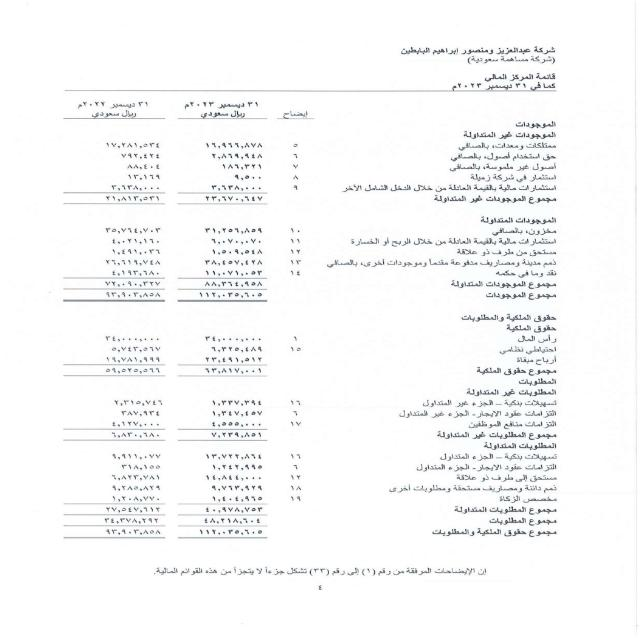financial_sheets: (473, 70, 569, 84)
table: (15, 94, 320, 552)
